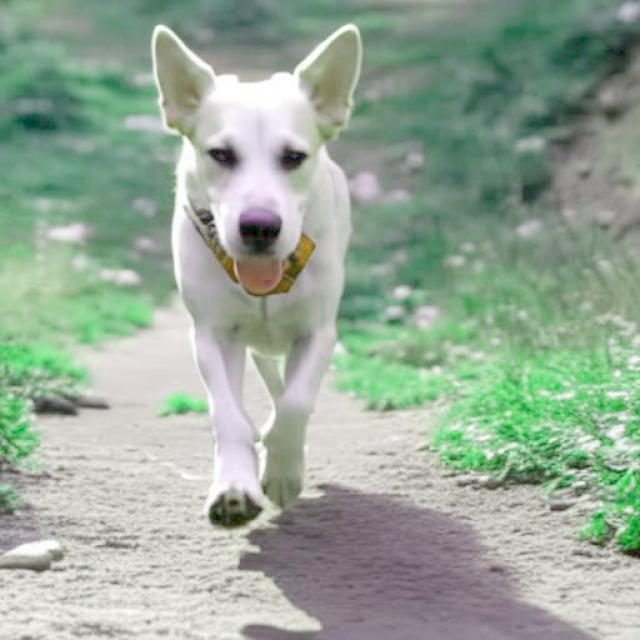Dog: (151, 24, 363, 528)
